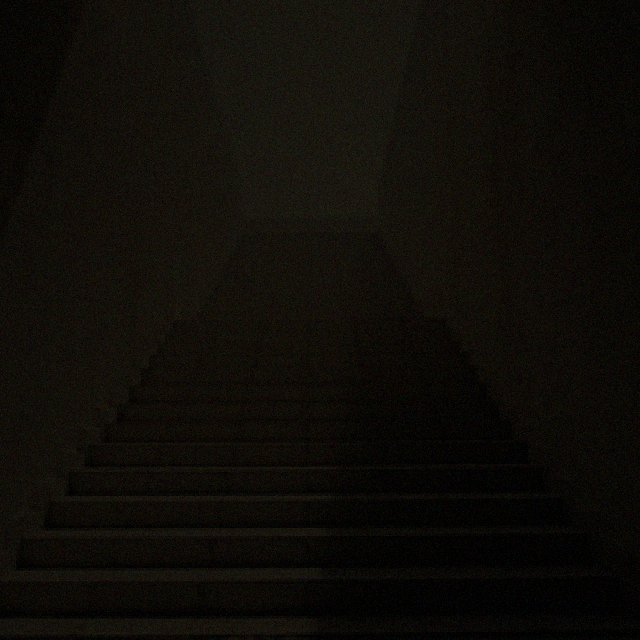stair: (0, 318, 631, 634)
